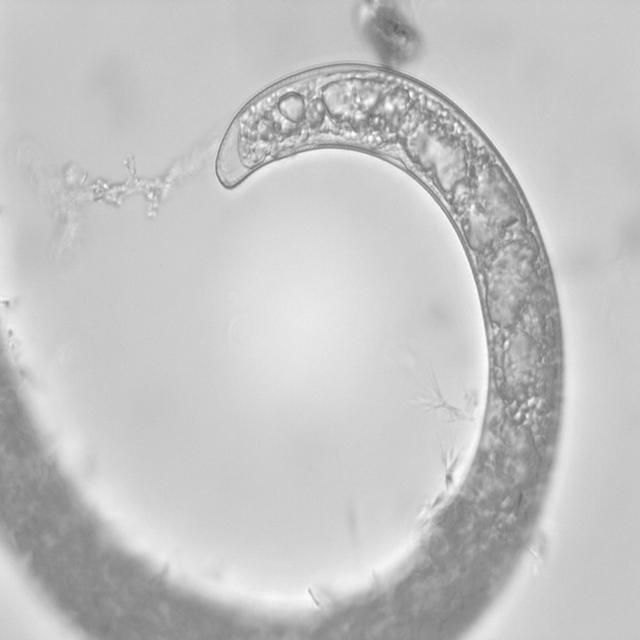Helicotylenchus: (203, 54, 572, 454)
